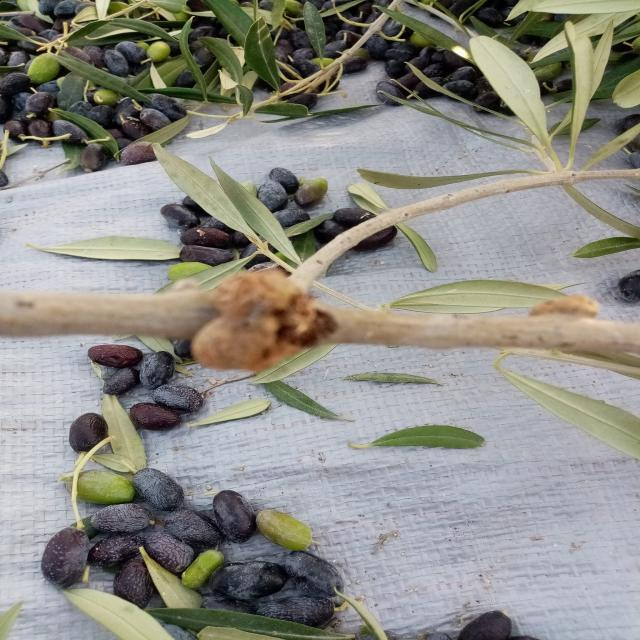Tuberculosis: (192, 269, 339, 374)
